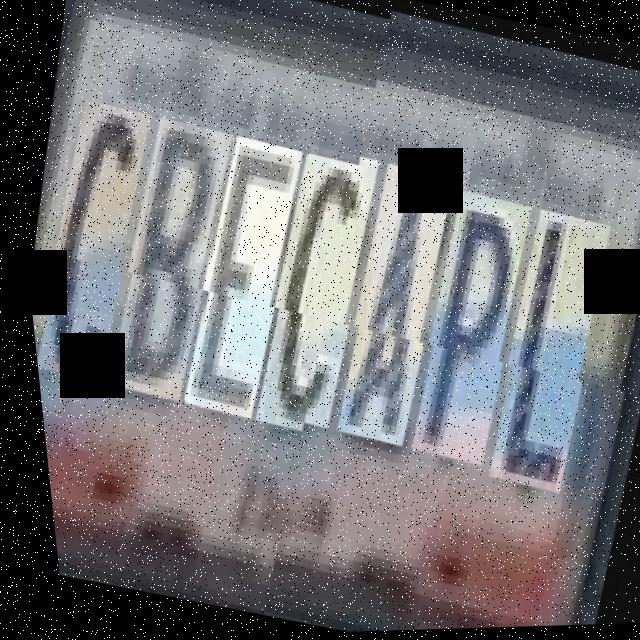A: (310, 167, 478, 461)
B: (87, 113, 259, 408)
C: (231, 148, 403, 443), (13, 96, 180, 389)
E: (162, 131, 329, 424)
L: (462, 212, 634, 506)
P: (385, 194, 554, 478)
